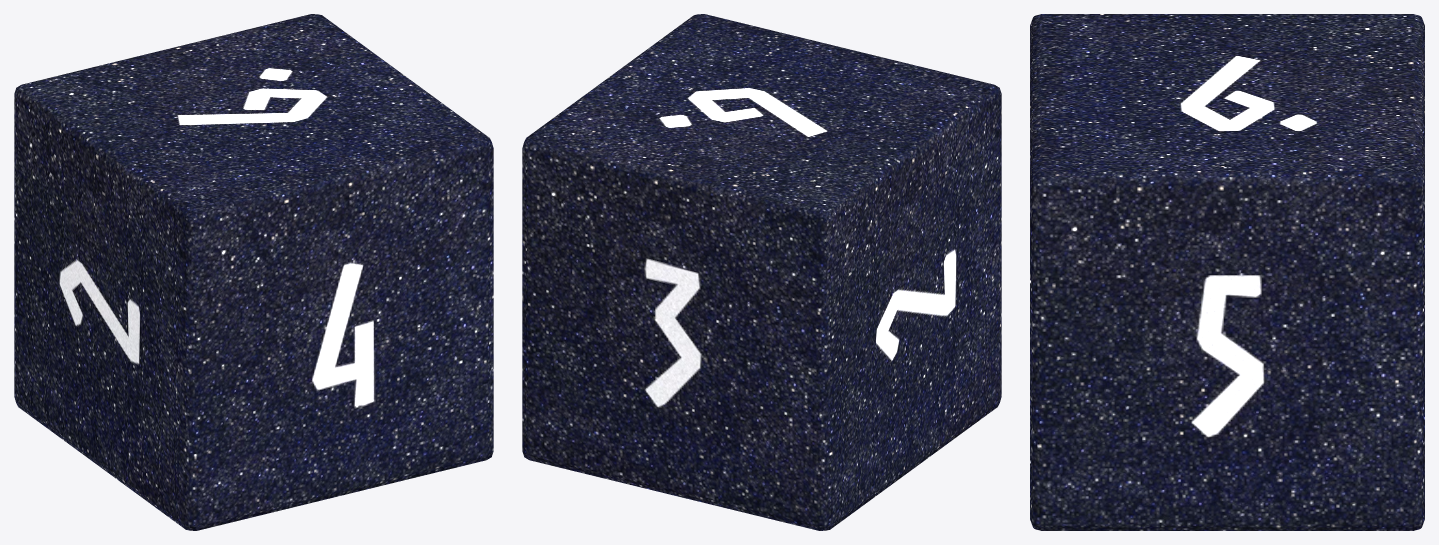
File: dicemodel_d6.gltf
3 renders of one model, left to right at view 1: azimuth 30°, elevation 25°; view 2: azimuth 150°, elevation 25°; view 3: azimuth 270°, elevation 25°, orthographic. The views are drawn at different scales.
Parts seen in each view (by area): view 1: dicemodel_d6; view 2: dicemodel_d6; view 3: dicemodel_d6.
Part boxes in pixels (x1,y1,x2,y2): dicemodel_d6: (14,14,493,530); dicemodel_d6: (522,14,1001,530); dicemodel_d6: (1030,14,1424,530).
Size of the model in its own units: 101 by 101 by 101.
Materials: 1 (1 with a texture image).
